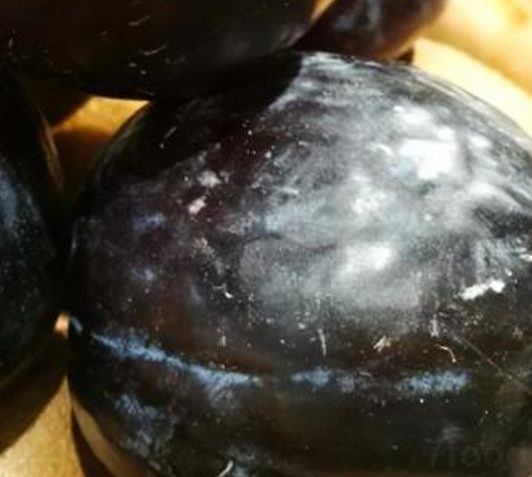plum_B: (66, 51, 532, 477)
